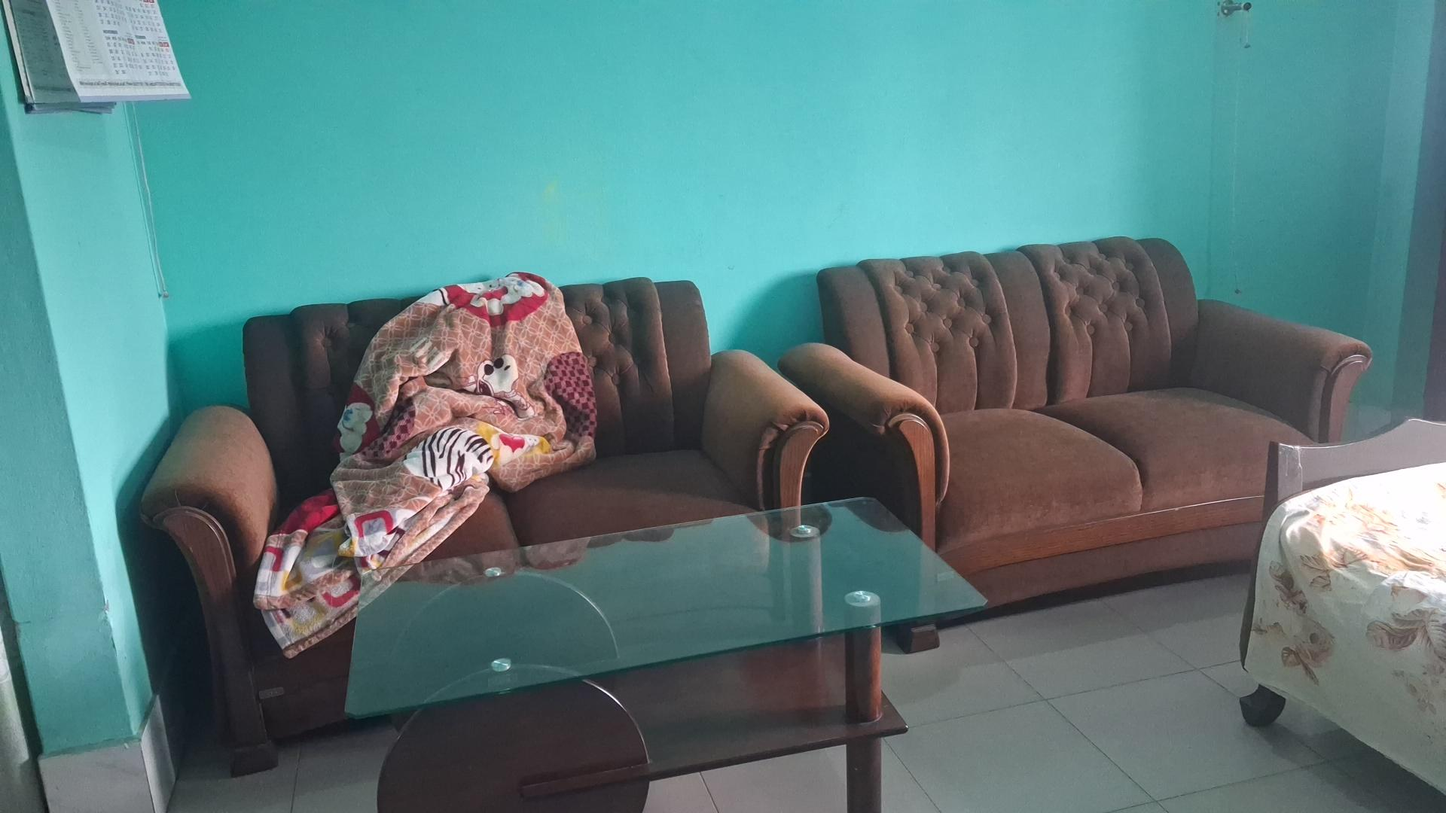Blanket: (258, 275, 596, 659)
Table: (338, 501, 988, 811)
